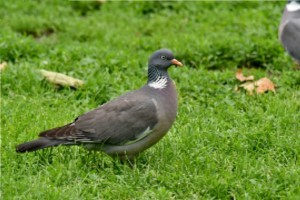pigeon: (15, 47, 185, 162)
